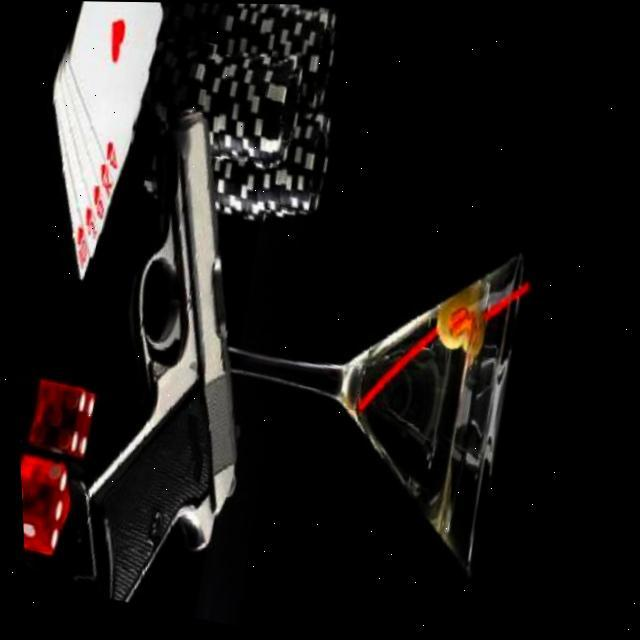gun: (26, 91, 311, 620)
